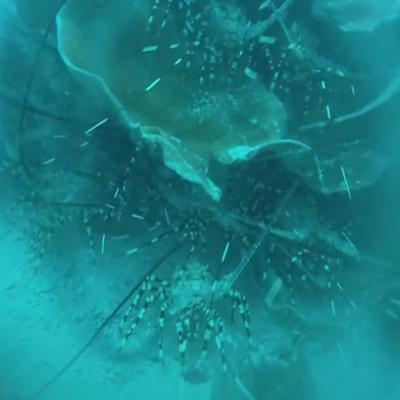lobster: (41, 161, 110, 233), (167, 261, 222, 349), (210, 2, 258, 67), (282, 15, 320, 92)
